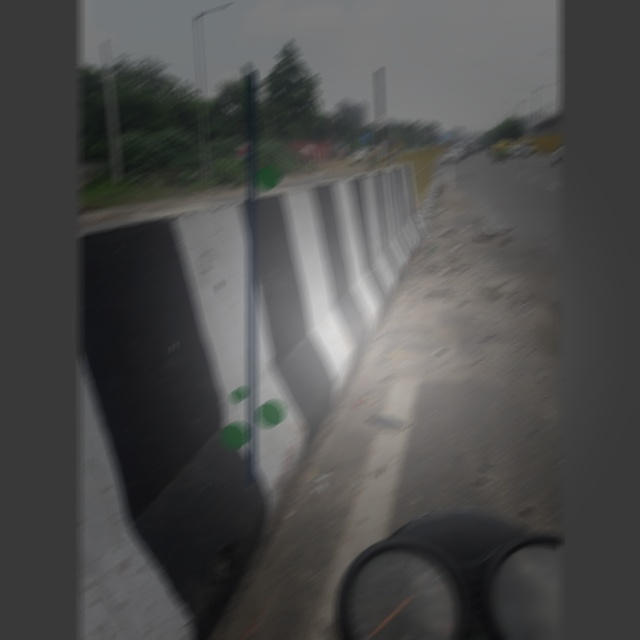Pass_Either_Side: (359, 129, 369, 140)
